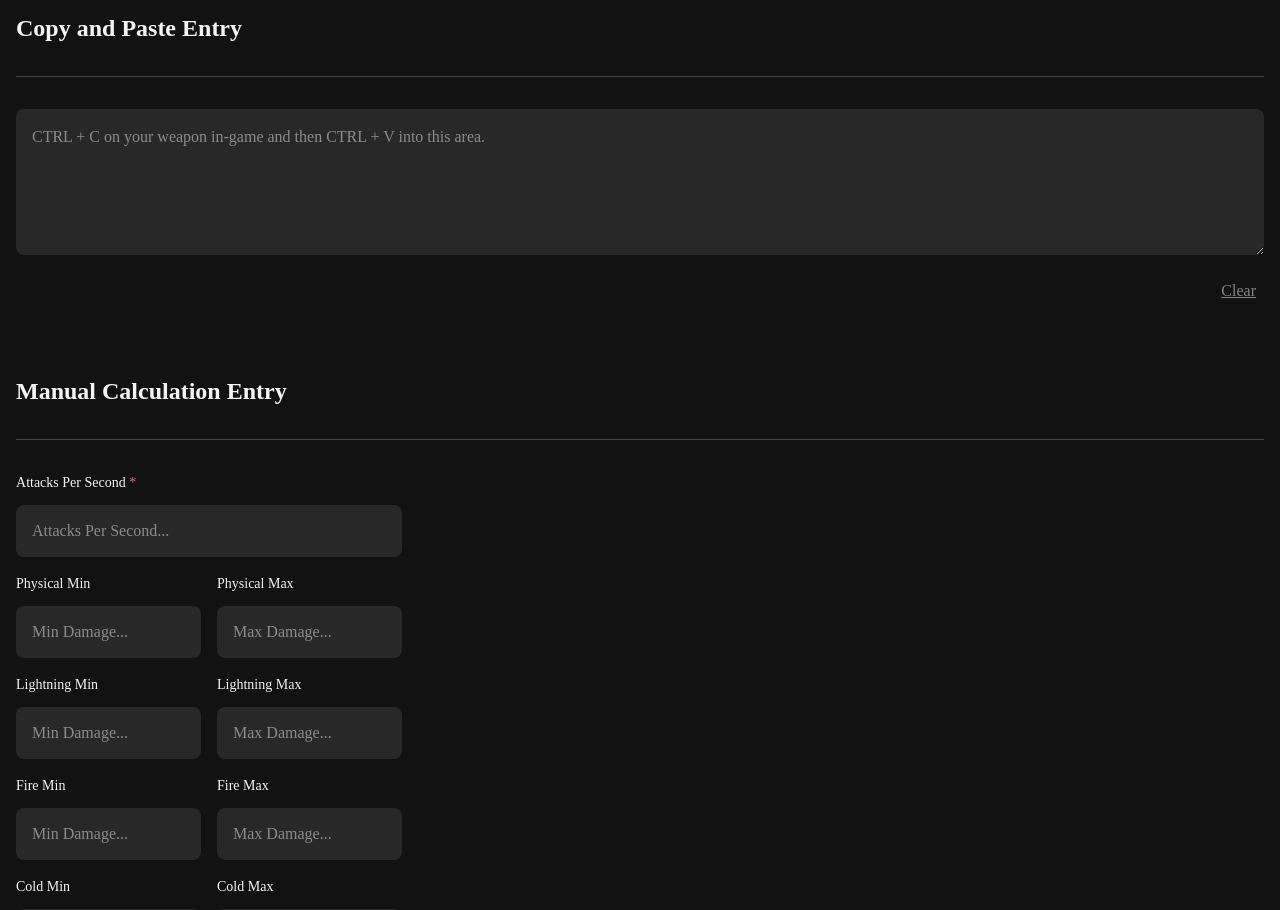
it: <DpsCalc /> › copy and paste section › GIVEN the DpsCalc component is rendered WHEN an item is pasted › THEN the calculated dps is displayed
The width and height of the screenshot is (1280, 910).
Click the text box with placeholder "CTRL + C on your weapon in-game and then CTRL + V into this area." at (640, 182), box [16,109,1264,255]
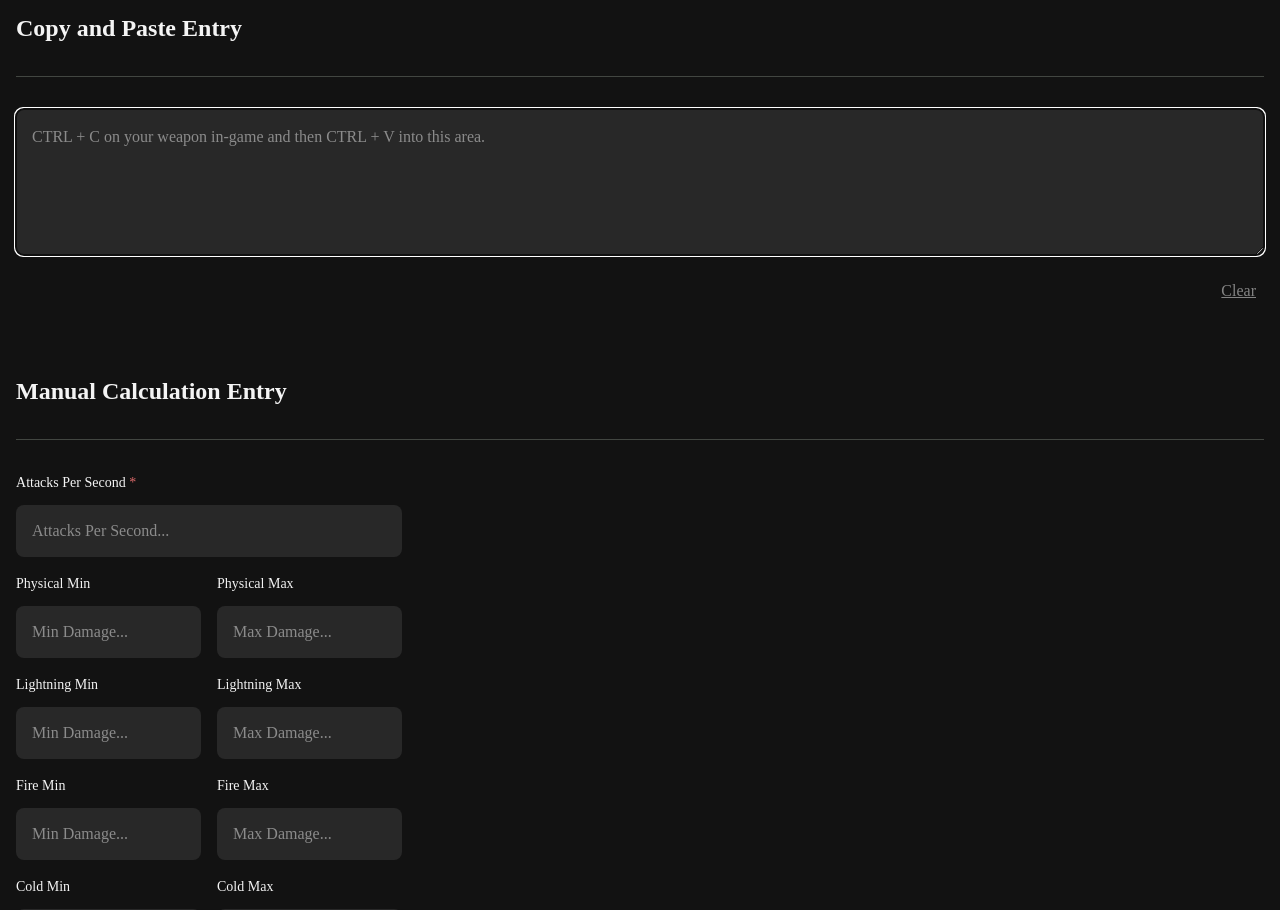
Type keys "Item Class: Quarterstaves         Rarity: Rare         Woe Goad         Expert Barrier Quarterstaff         --------         Physical Damage: 125-209 (augmented)         Elemental Damage: 3-7 (augment"
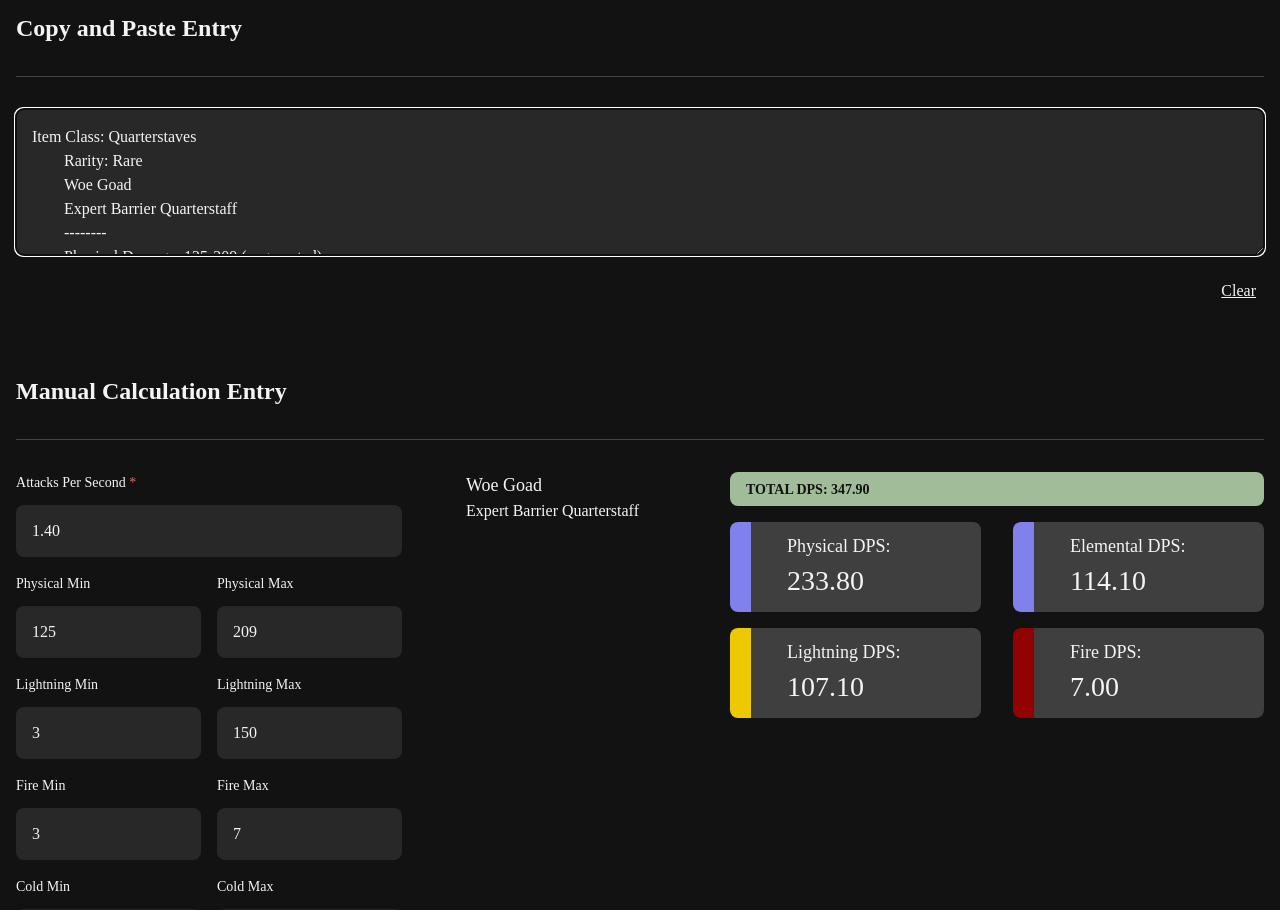
Now the text "233.80" is shown, box [787,565,864,596]
Now the text "7.00" is shown, box [1070,671,1119,702]
Now the text "107.10" is shown, box [787,671,864,702]
